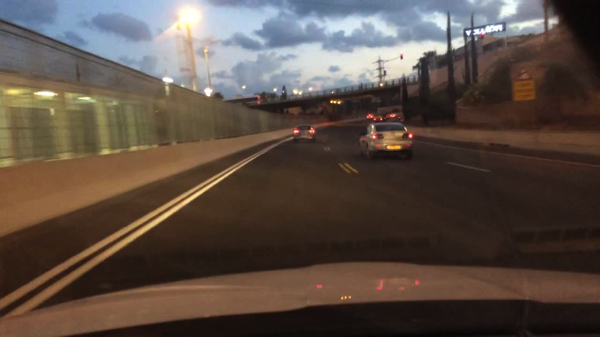car: (359, 123, 413, 159), (293, 125, 315, 142), (305, 107, 323, 115), (385, 111, 400, 119), (373, 112, 385, 121), (366, 112, 373, 119)
traffic light: (400, 53, 403, 59)
traffic sign: (512, 78, 535, 101), (514, 69, 531, 81), (371, 96, 381, 104)
